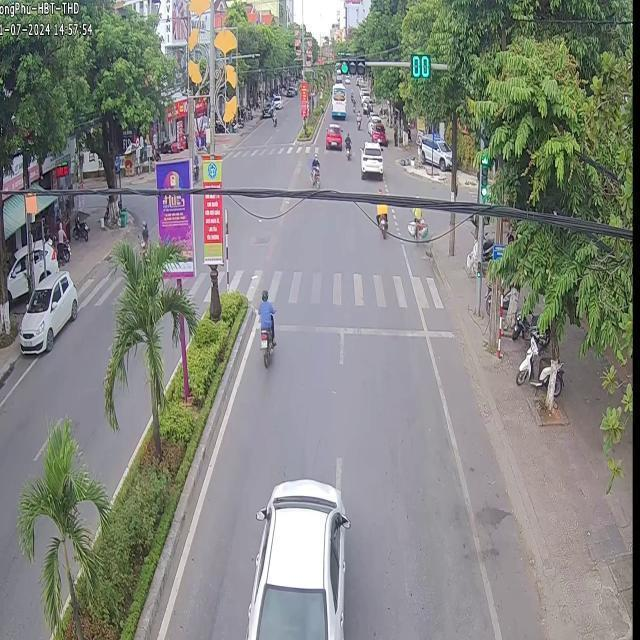car: (244, 478, 348, 638), (18, 269, 76, 354), (359, 140, 382, 178)
green_light: (479, 154, 489, 201), (411, 54, 429, 75), (341, 61, 366, 75)
motobike: (257, 289, 274, 365), (307, 154, 318, 187)
stop_line: (278, 322, 423, 338)
